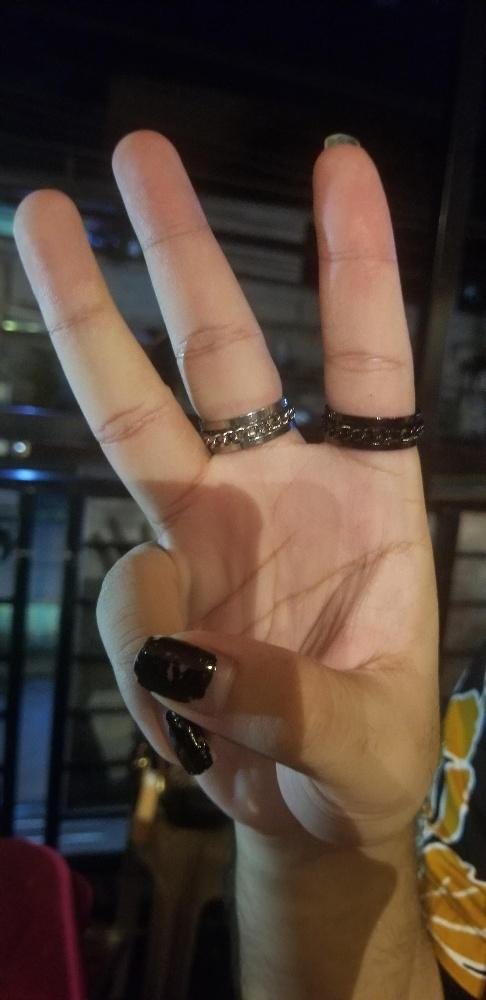w: (12, 121, 443, 839)
